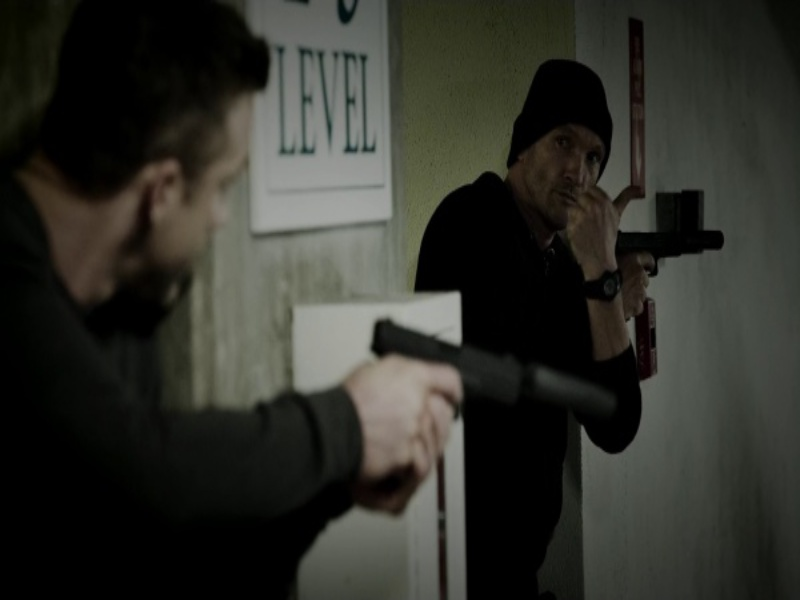person: (5, 3, 459, 595), (444, 45, 643, 598)
weapon: (375, 318, 622, 494), (605, 224, 733, 279)
